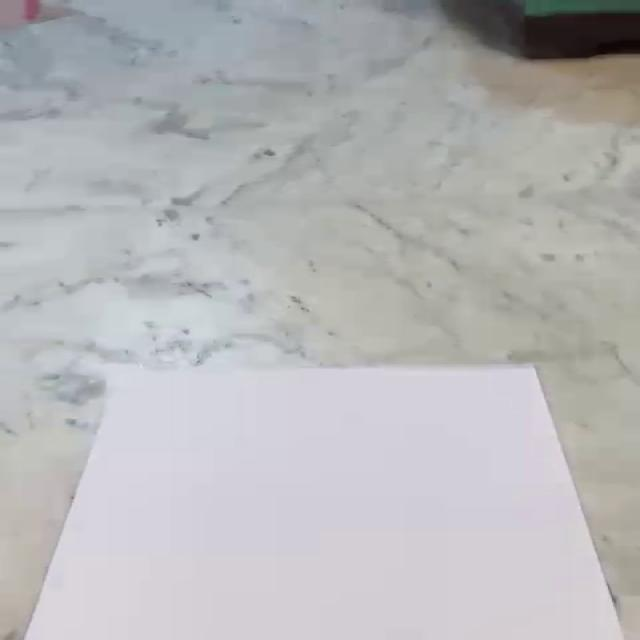road: (20, 365, 627, 640)
